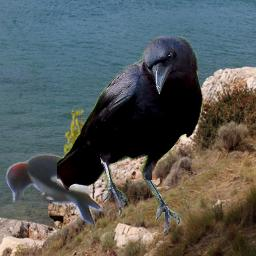Crow: (57, 36, 203, 235)
Woodpecker: (3, 152, 105, 228)
